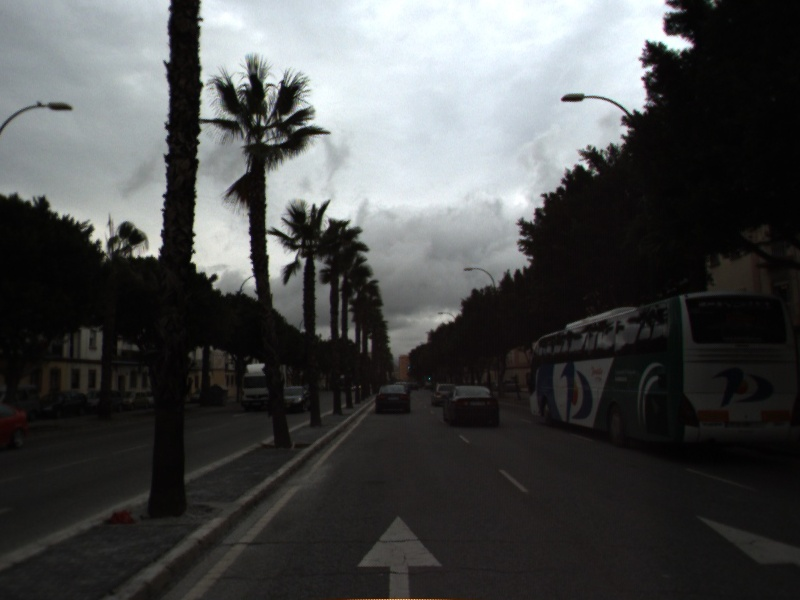STRAIGHT: (353, 511, 447, 600)
